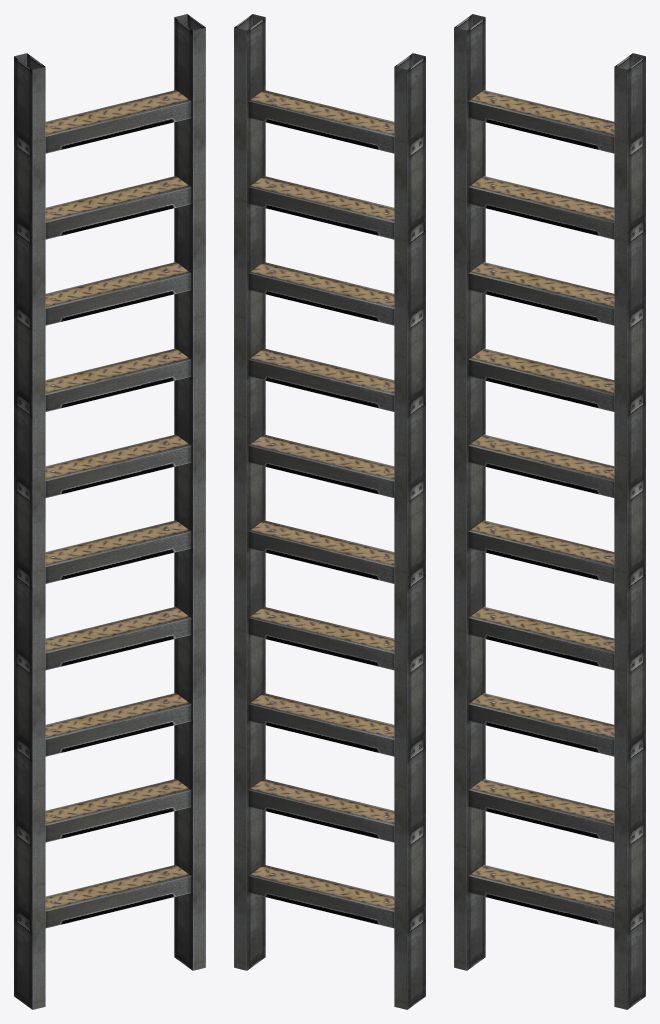
File: clt_ladder_construction_01_lod2.glb
The picture shows the model from 3 angles, left to right: view 1: azimuth 30°, elevation 25°; view 2: azimuth 150°, elevation 25°; view 3: azimuth 330°, elevation 25°; orthographic projection.
Parts seen in each view (by area): view 1: surf0; view 2: surf0; view 3: surf0.
Boxes of the visible parts, left/top/right/bottom form: surf0: left=14, top=14, right=205, bottom=1009; surf0: left=234, top=14, right=425, bottom=1009; surf0: left=454, top=14, right=645, bottom=1009.
Bounding box in the file's own units: 27 × 140 × 5.
